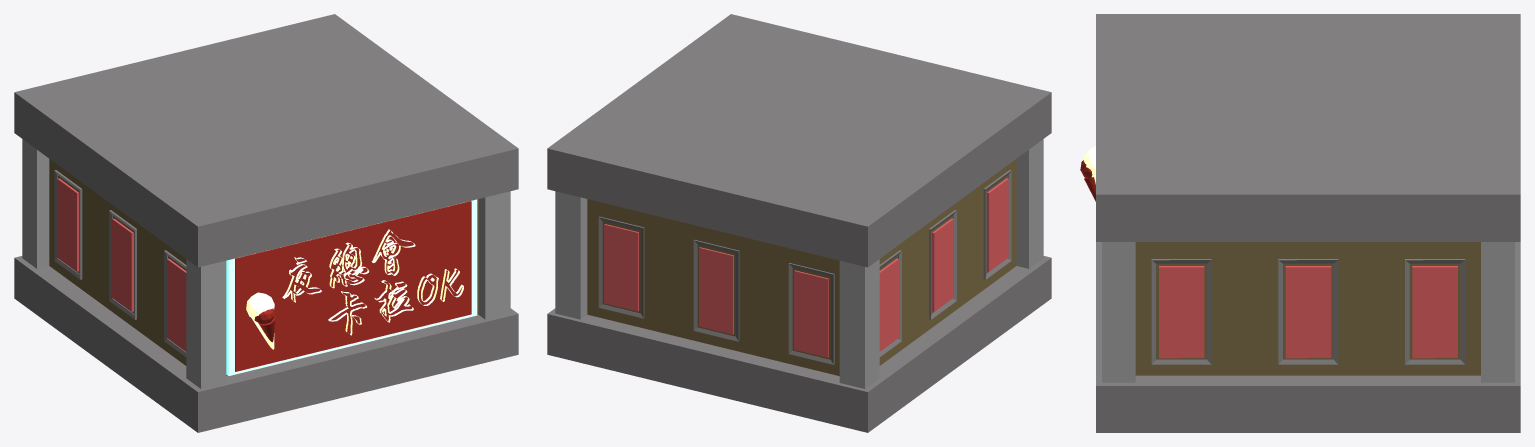
The picture shows the model from 3 angles, left to right: view 1: azimuth 30°, elevation 25°; view 2: azimuth 150°, elevation 25°; view 3: azimuth 270°, elevation 25°; orthographic projection. The views are drawn at different scales.
Visible parts, largest first — view 1: Cube.014, Cube.013, Cube.004, Cube.002, Cube.016, Cube.015, Text, Cube.017, Cube.012, Cube.005, Cube.010, Cube.011 (+1 smaller); view 2: Cube.014, Cube.002, Cube.013, Cube.017, Cube.018, Cube, Cube.001, Cube.003, Cube.016, Cube.011, Cube.010, Cube.012; view 3: Cube.014, Cube.002, Cube.013, Cube.008, Cube.009, Cube.007, Cube.015, Cube.018.
Boxes of the visible parts, bbox=[...] form: Cube.014: bbox=[14, 14, 518, 267]; Cube.013: bbox=[14, 256, 518, 432]; Cube.004: bbox=[235, 201, 471, 371]; Cube.002: bbox=[49, 159, 478, 375]; Cube.016: bbox=[186, 259, 226, 388]; Cube.015: bbox=[478, 191, 510, 319]; Text: bbox=[282, 229, 463, 335]; Cube.017: bbox=[22, 139, 49, 268]; Cube.012: bbox=[54, 170, 82, 279]; Cube.005: bbox=[226, 199, 477, 375]; Cube.010: bbox=[109, 210, 136, 319]; Cube.011: bbox=[164, 250, 186, 356]; Cube.014: bbox=[547, 14, 1051, 267]; Cube.002: bbox=[587, 159, 1016, 375]; Cube.013: bbox=[547, 256, 1051, 432]; Cube.017: bbox=[839, 259, 879, 388]; Cube.018: bbox=[555, 191, 587, 319]; Cube: bbox=[598, 216, 644, 318]; Cube.001: bbox=[788, 263, 834, 364]; Cube.003: bbox=[693, 239, 739, 341]; Cube.016: bbox=[1016, 139, 1043, 268]; Cube.011: bbox=[983, 170, 1011, 279]; Cube.010: bbox=[929, 210, 956, 319]; Cube.012: bbox=[879, 250, 901, 356]; Cube.014: bbox=[1096, 14, 1520, 241]; Cube.002: bbox=[1135, 242, 1480, 375]; Cube.013: bbox=[1096, 242, 1520, 432]; Cube.008: bbox=[1405, 259, 1465, 364]; Cube.009: bbox=[1278, 259, 1338, 364]; Cube.007: bbox=[1151, 259, 1211, 364]; Cube.015: bbox=[1102, 242, 1135, 382]; Cube.018: bbox=[1481, 242, 1514, 382].
Bounding box in the file's own units: 13.28 × 8.16 × 13.66.
